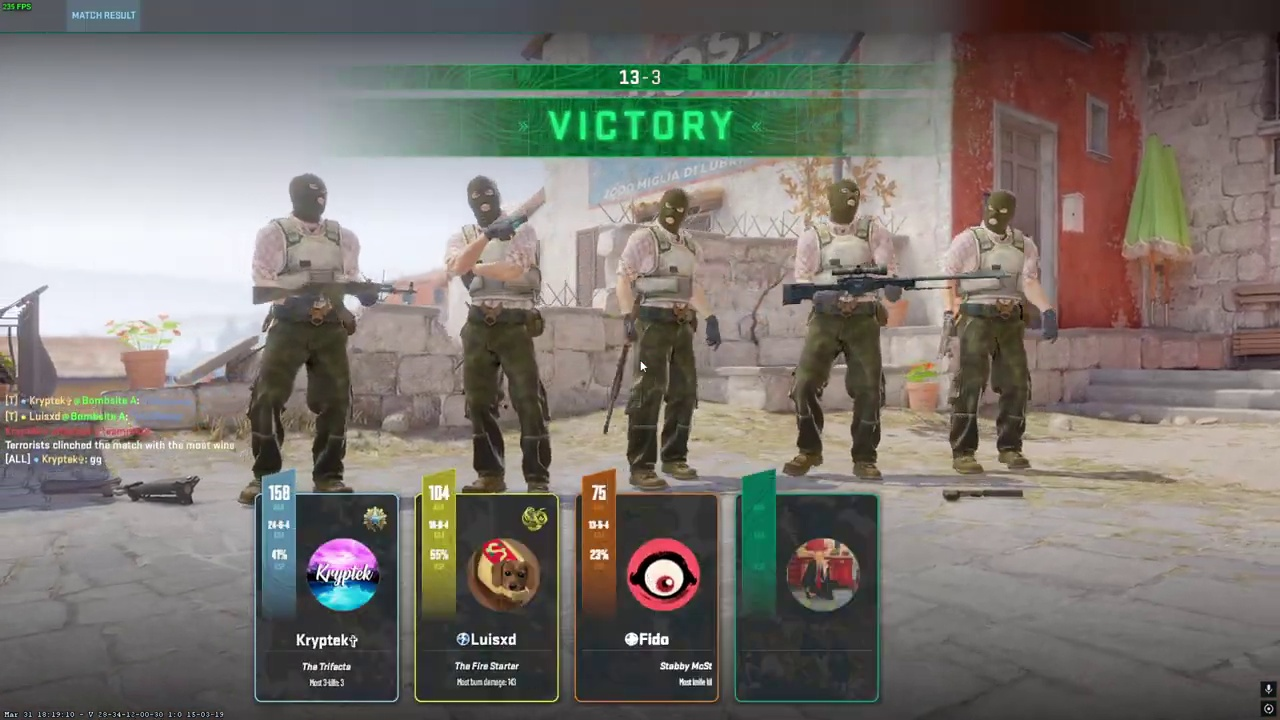Terrorist: (241, 173, 360, 498), (783, 178, 903, 481), (446, 175, 552, 505), (610, 188, 714, 486), (940, 190, 1041, 475)
